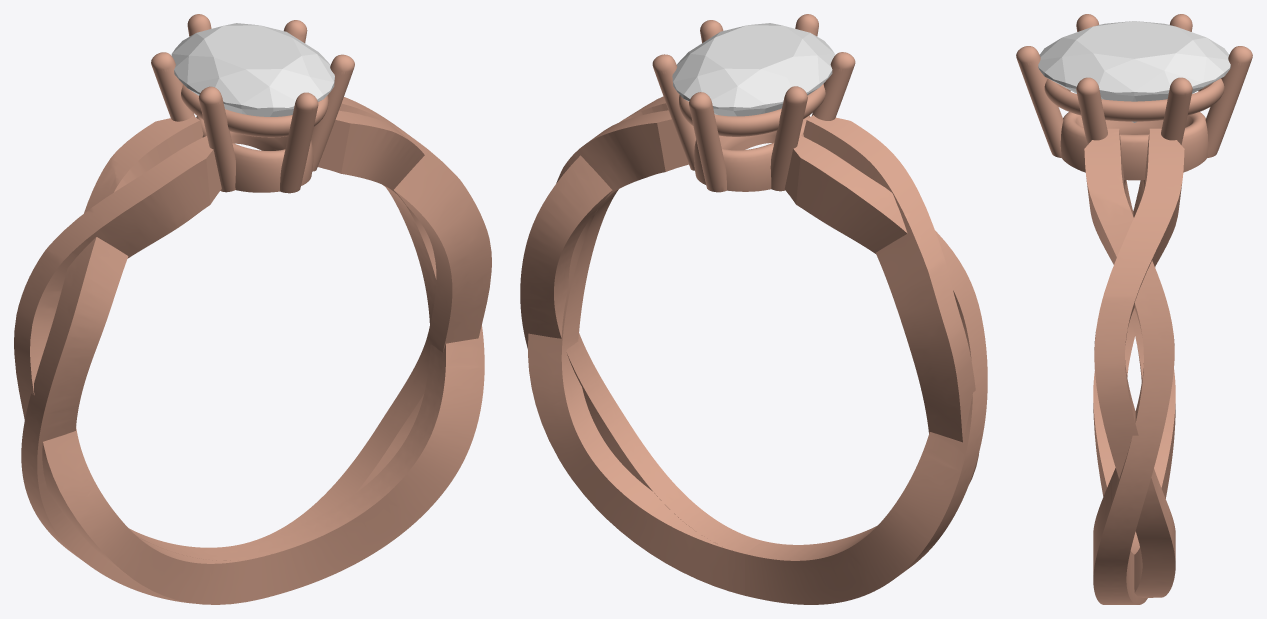
Rendered from diamond-oval-rosegold-6prong-twist-nosidestones.glb.
3 views of the same model, side by side, from view 1: azimuth 30°, elevation 25°; view 2: azimuth 150°, elevation 25°; view 3: azimuth 270°, elevation 25° (orthographic).
Visible parts, largest first — view 1: metal.001, stone; view 2: metal.001, stone; view 3: metal.001, stone.
Part boxes in pixels (<box>): metal.001: <box>14,14,491,604</box>; stone: <box>171,23,334,116</box>; metal.001: <box>520,14,987,604</box>; stone: <box>672,23,834,116</box>; metal.001: <box>1016,14,1252,604</box>; stone: <box>1038,21,1230,122</box>.
Bounding box in the file's own units: 19.97 × 23.31 × 9.29.
